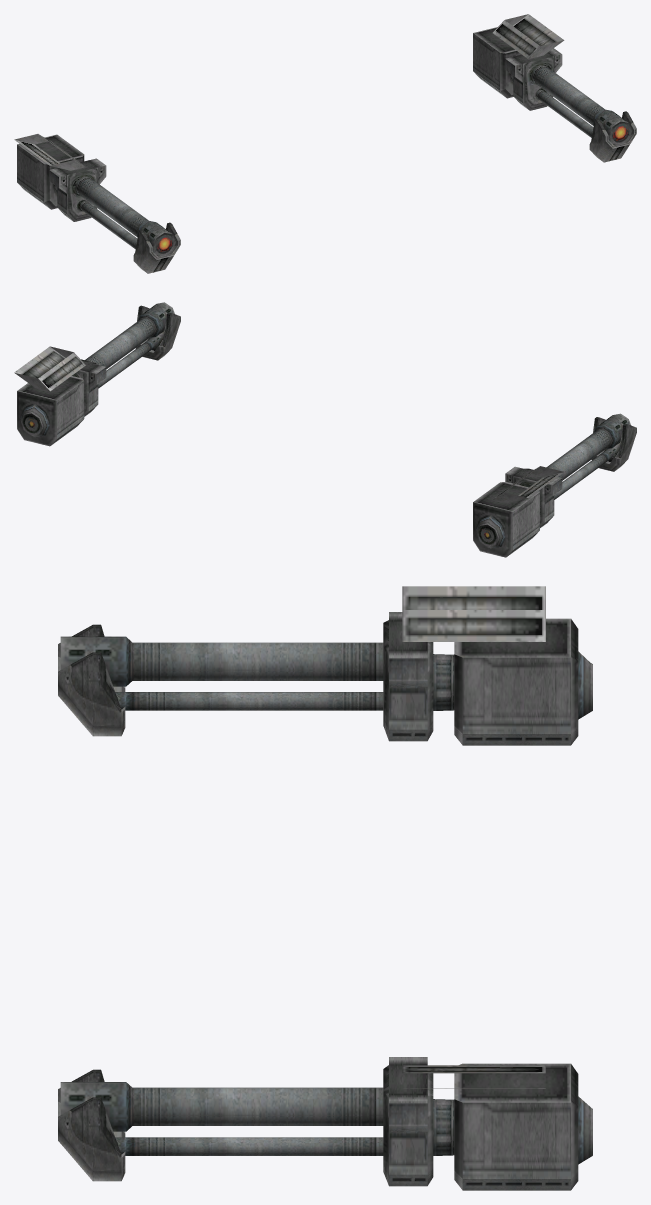
Rendered from black_sun_fighter_heavy_weapon1_s06_l0.fbx.
3 renders of one model, top to bottom at view 1: azimuth 30°, elevation 25°; view 2: azimuth 150°, elevation 25°; view 3: azimuth 270°, elevation 25°, orthographic. The views are drawn at different scales.
Parts seen in each view (by area): view 1: mesh_node; view 2: mesh_node; view 3: mesh_node.
Boxes of the visible parts, x1,y1,x2,y2 form: mesh_node: (14,14,636,273); mesh_node: (14,302,636,557); mesh_node: (58,586,592,1190).
Bounding box in the file's own units: 13.97 × 1.53 × 6.28.
